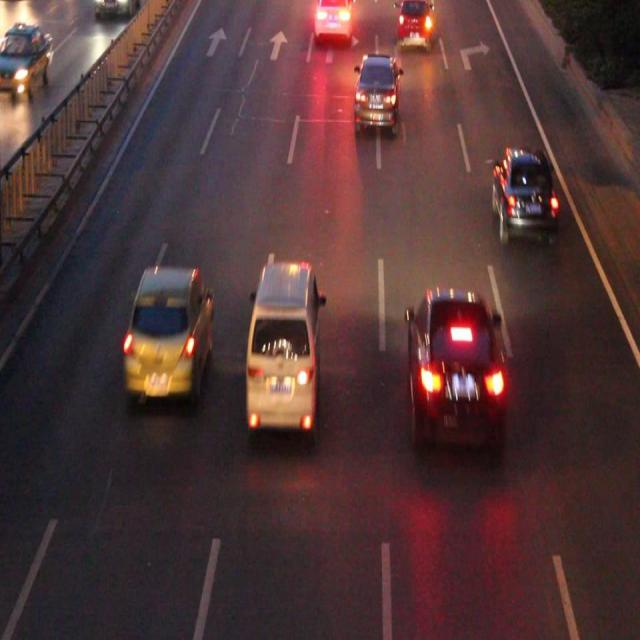car: (408, 295, 504, 440), (124, 271, 211, 392), (493, 149, 553, 237), (354, 56, 399, 126), (397, 1, 431, 45), (314, 1, 351, 37)
truck: (247, 263, 316, 428)
